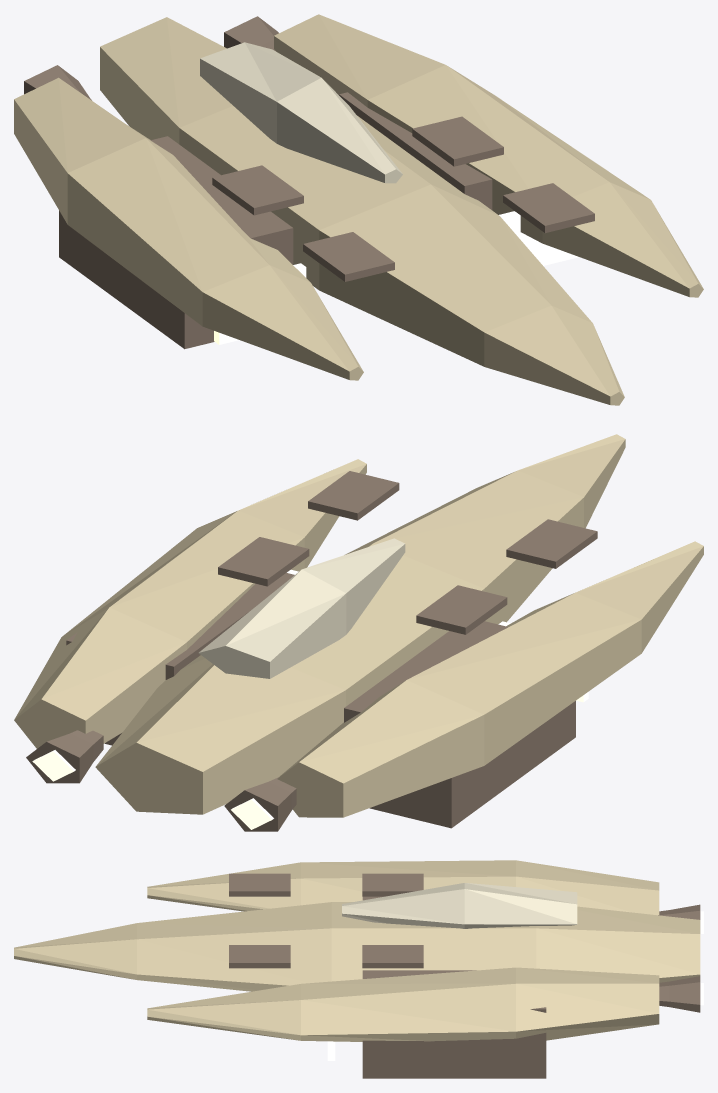
3 renders of one model, top to bottom at view 1: azimuth 30°, elevation 25°; view 2: azimuth 150°, elevation 25°; view 3: azimuth 270°, elevation 25°, orthographic. The views are drawn at different scales.
Size of the model in its own units: 9.91 by 3.59 by 18.02.
